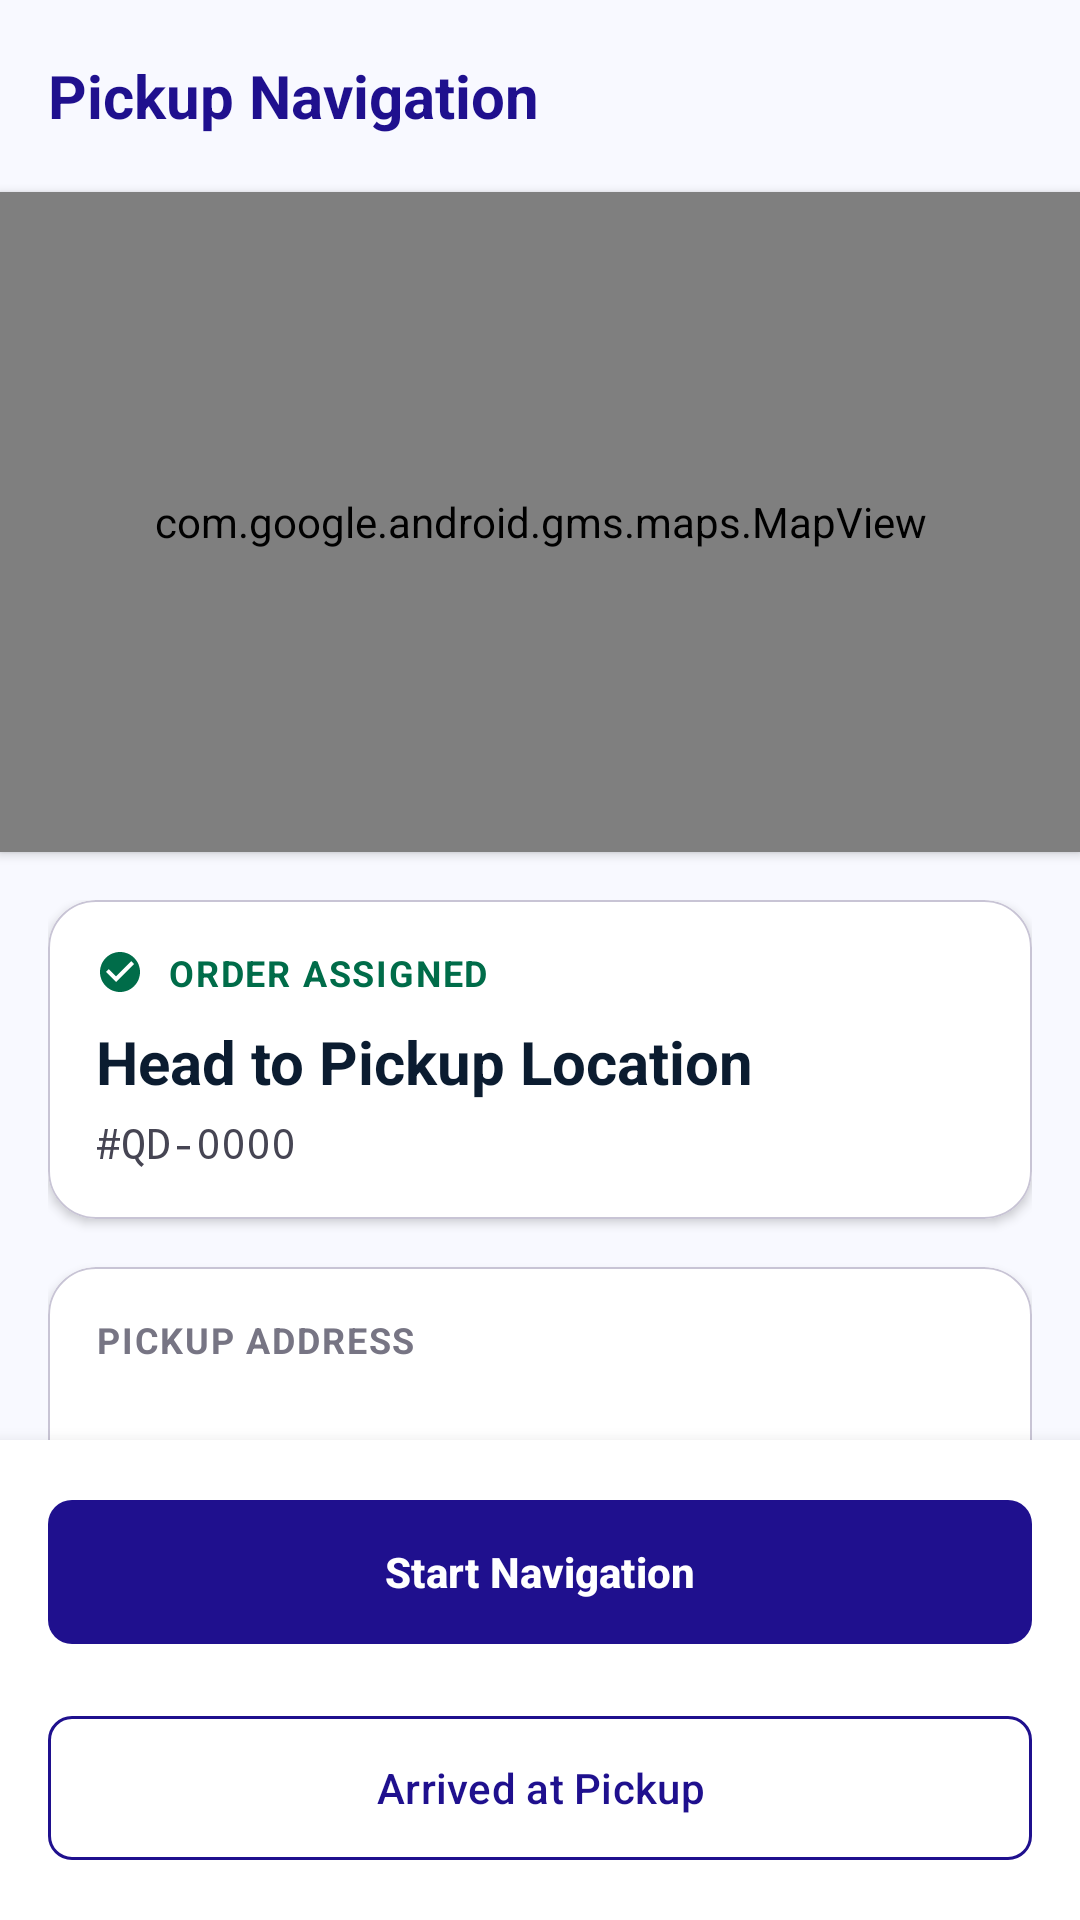

Icons on this 1080 x 1920 Android screen, each with the point to tap as [x,y]:
Status Icon: [120,972]
